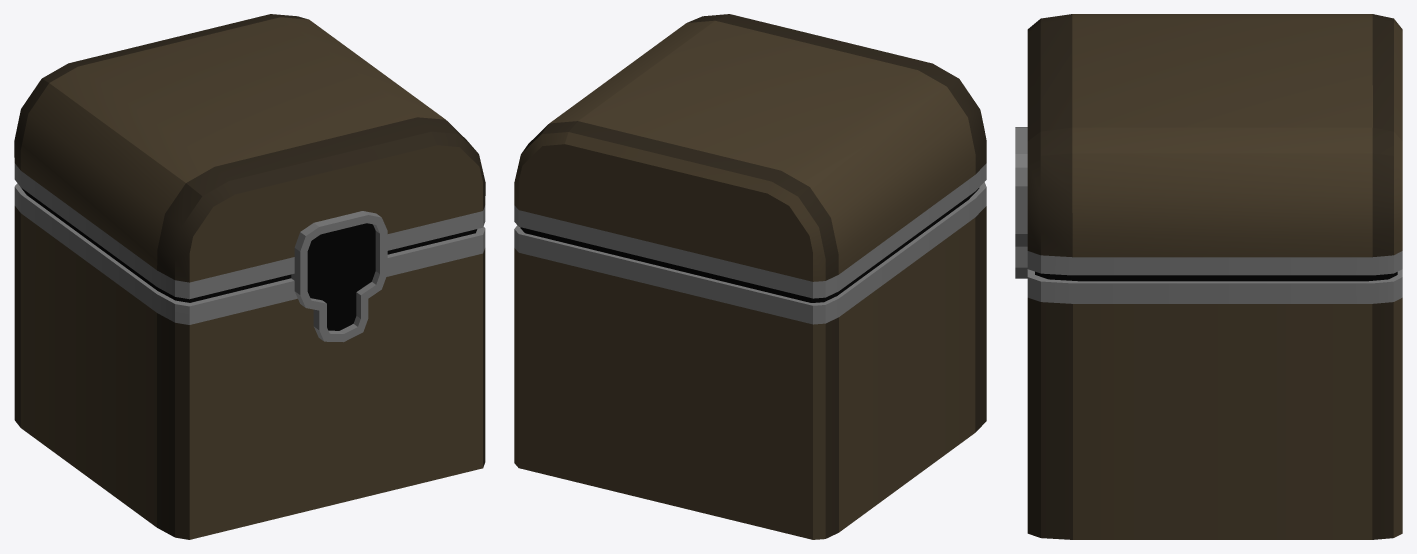
The model's file is PROJECT DREAM - Bedroom - Small Chest.fbx.
3 views of the same model, side by side, from view 1: azimuth 30°, elevation 25°; view 2: azimuth 150°, elevation 25°; view 3: azimuth 270°, elevation 25° (orthographic). The views are drawn at different scales.
Visible parts, largest first — view 1: Bedroom - Small Chest; view 2: Bedroom - Small Chest; view 3: Bedroom - Small Chest.
Part boxes in pixels (x1=…): Bedroom - Small Chest: x1=14, y1=14, x2=485, y2=539; Bedroom - Small Chest: x1=514, y1=14, x2=986, y2=539; Bedroom - Small Chest: x1=1015, y1=14, x2=1402, y2=539.
Size of the model in its own units: 32.76 by 34.26 by 31.53.
